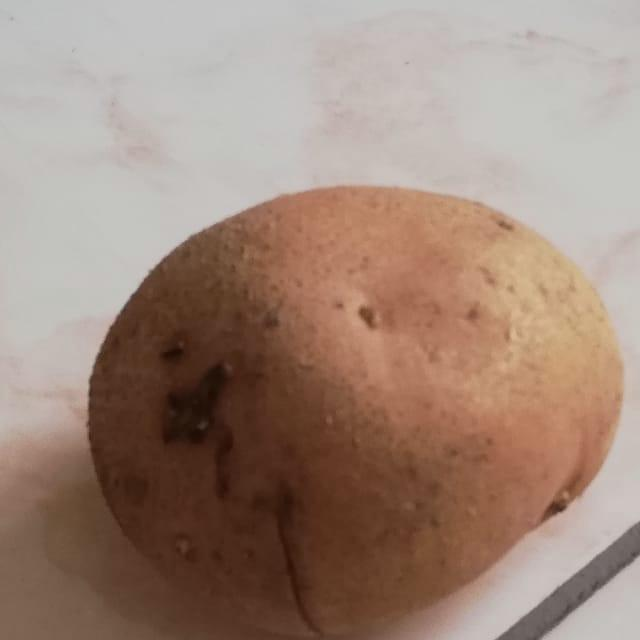potato: (58, 152, 640, 640)
